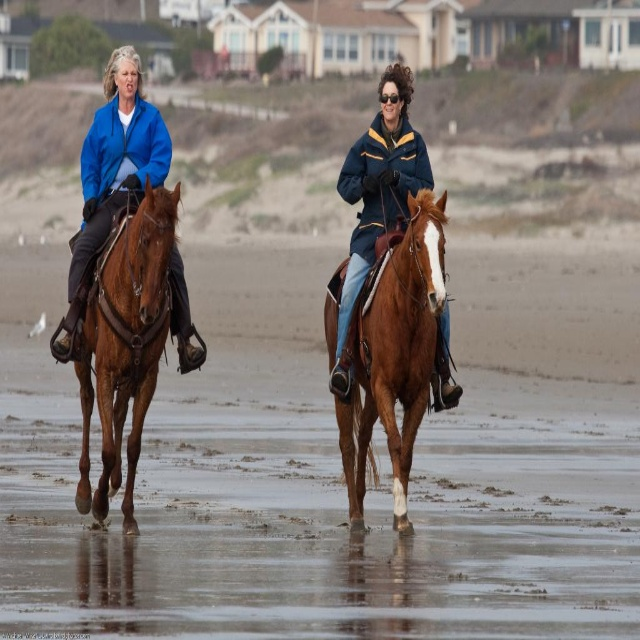Horse: (74, 172, 187, 533)
